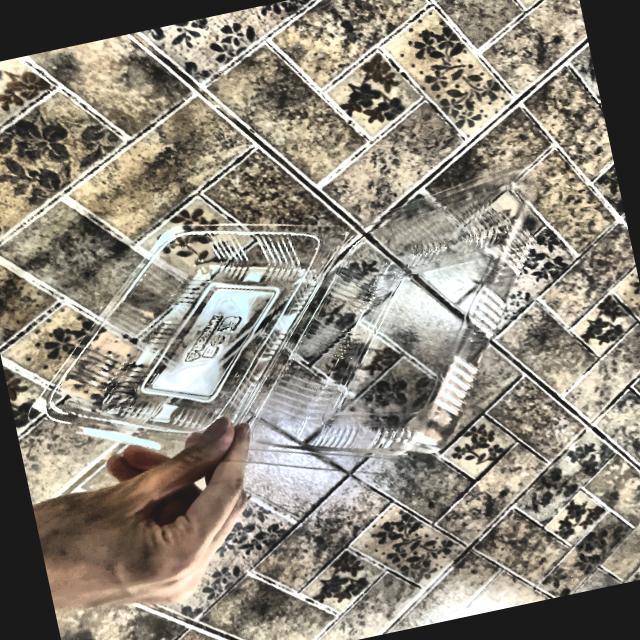plastic container: (3, 145, 570, 534)
